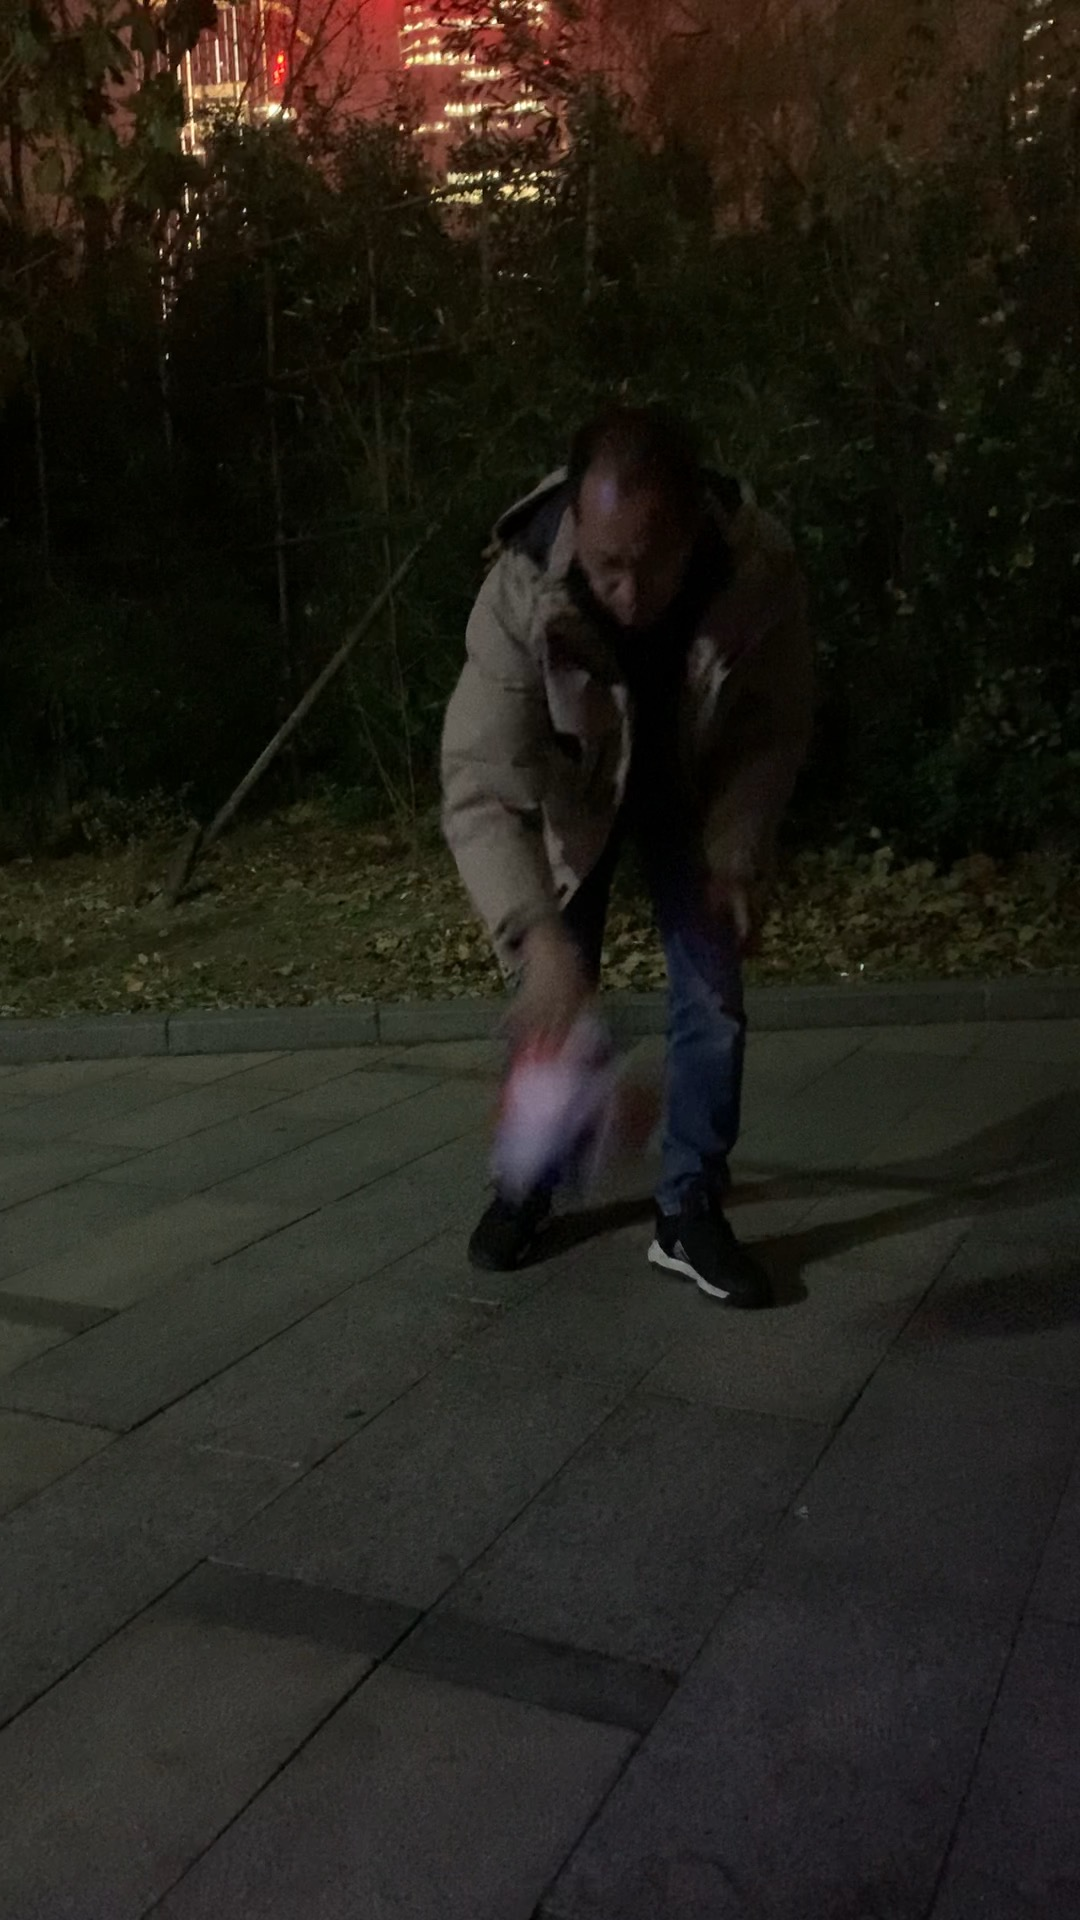ball: (497, 1011, 669, 1163)
